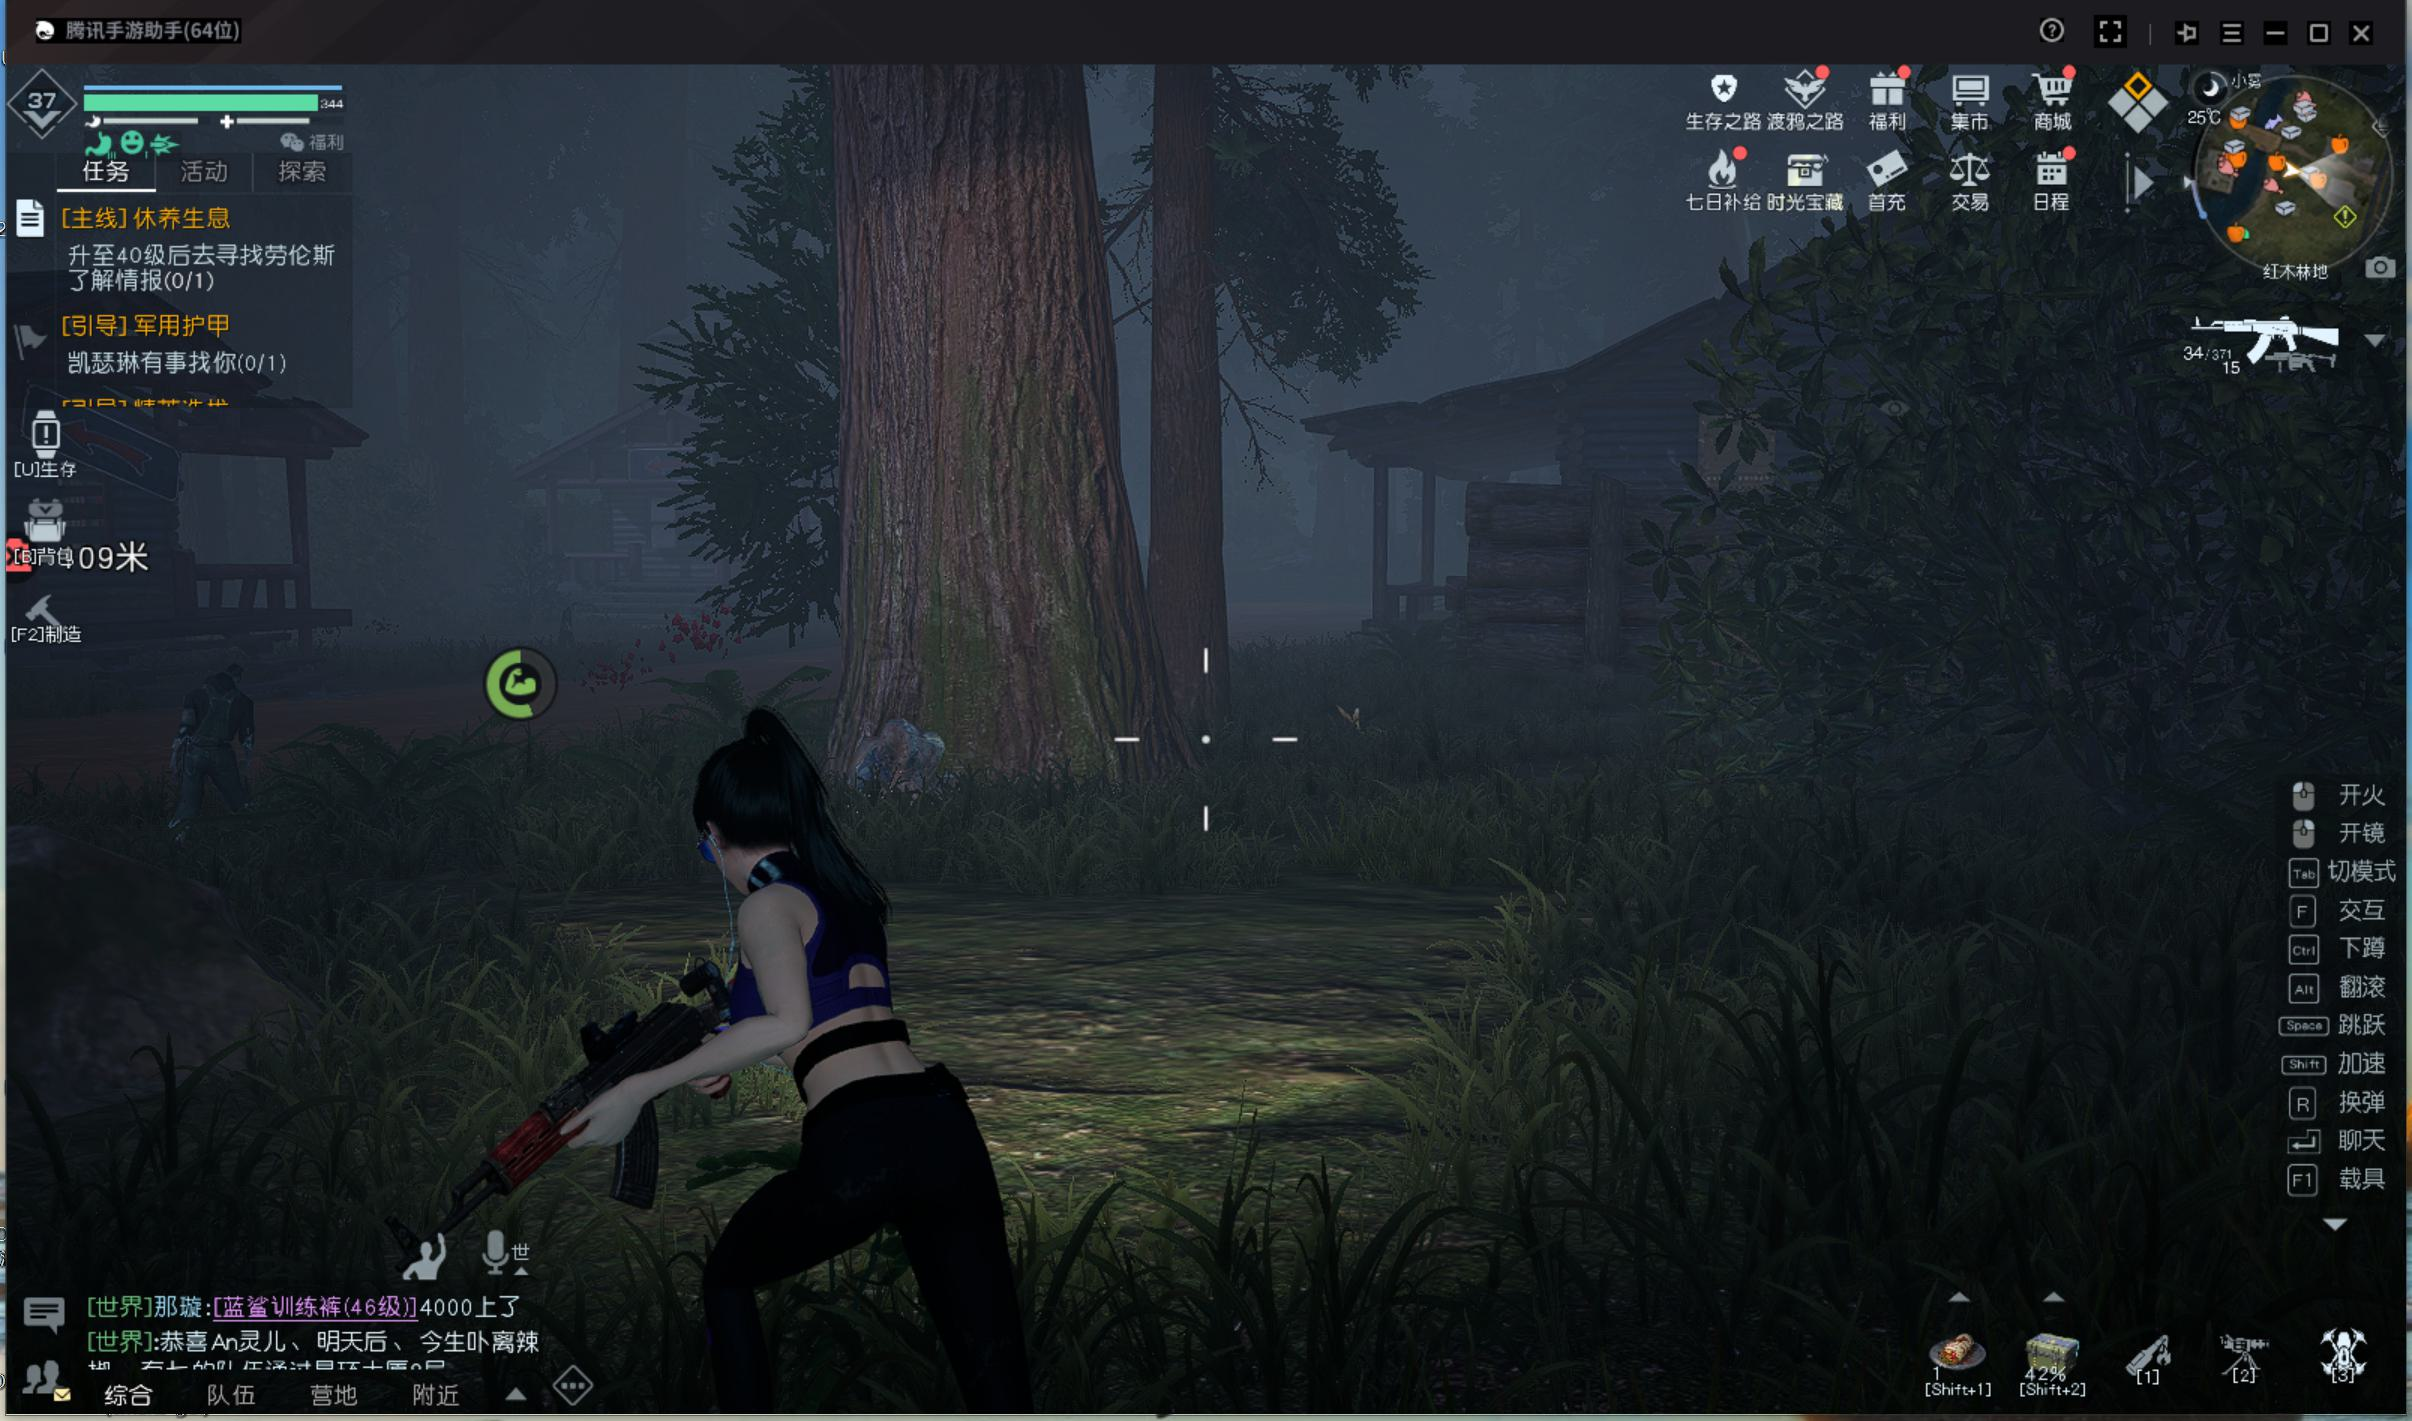tree: (810, 134, 1155, 831), (1142, 86, 1236, 832)
